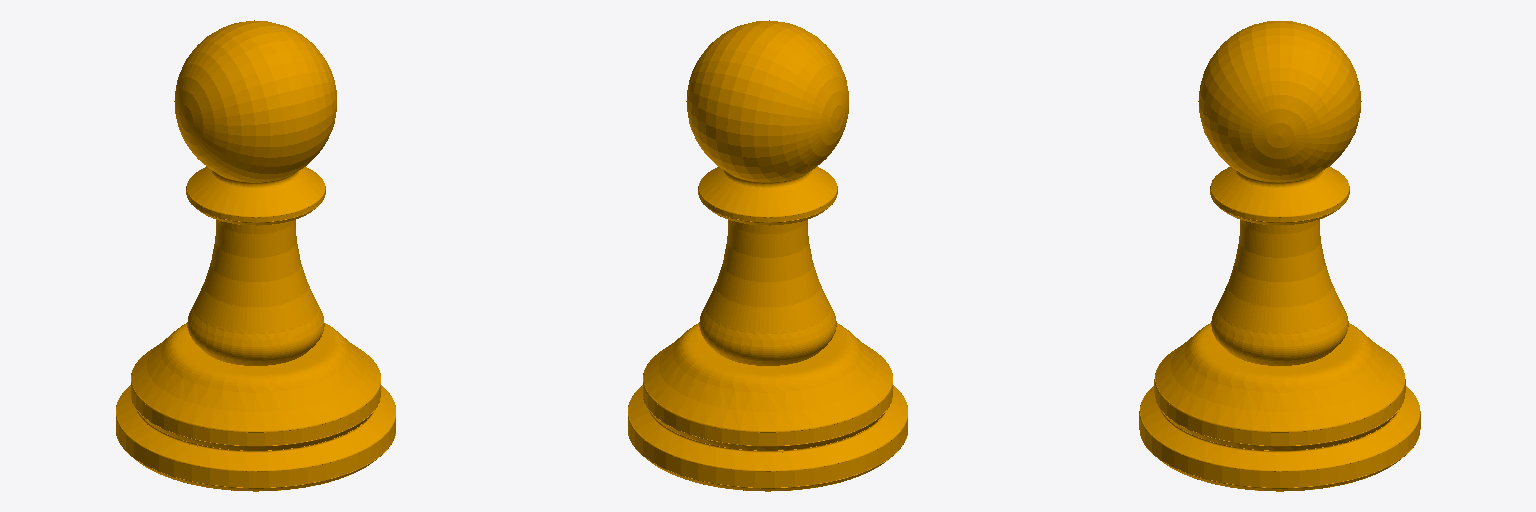
robot.urdf — Pawn_W:
<?xml version="1.0" encoding="utf-8"?>
<robot name="Pawn_W">
  <link name="piece_body">
    <inertial>
      <mass value="0.032"/>
      <origin xyz="-3.677E-07 1.233E-07 0.021" rpy="0 0 0"/>
      <inertia ixx="1.393E-05" ixy="0.00" ixz="3.527E-10" iyy="1.392E-05" iyz="-1.150E-10" izz="3.265E-06"/>
    </inertial>
    <collision>
      <origin rpy="0 0 0" xyz="0 0 0.031"/>
      <geometry>
        <cylinder radius="0.0195" length="0.062"/>
      </geometry>
    </collision>
    <collision>
      <origin rpy="0 0 0" xyz="0.016 0.0 0"/>
      <geometry>
        <sphere radius="0.001"/>
      </geometry>
    </collision>
    <collision>
      <origin rpy="0 0 0" xyz="-0.008 0.014 0"/>
      <geometry>
        <sphere radius="0.001"/>
      </geometry>
    </collision>
    <collision>
      <origin rpy="0 0 0" xyz="-0.008 -0.014 0"/>
      <geometry>
        <sphere radius="0.001"/>
      </geometry>
    </collision>
    <visual>
      <origin rpy="0 0 0"/>
      <geometry>
        <mesh filename="Pawn_W.obj"/>
      </geometry>
    </visual>
  </link>
</robot>

--- Render facts (derived) ---
Views: 3 orthographic renders of the robot side by side, from view 1: azimuth 30°, elevation 25°; view 2: azimuth 150°, elevation 25°; view 3: azimuth 270°, elevation 25°.
Robot: Pawn_W — 1 links, 0 joints (none); root link piece_body; default pose: every joint at zero.
Links seen in each view (by area): view 1: piece_body; view 2: piece_body; view 3: piece_body.
Link boxes in pixels (left/top/right/bottom): piece_body: left=116, top=20, right=395, bottom=491; piece_body: left=628, top=20, right=907, bottom=491; piece_body: left=1139, top=21, right=1420, bottom=491.
Bounding box of the posed robot: 0.0386 × 0.0386 × 0.0617 m (x, y, z).
1 mesh visuals loaded from 1 distinct referenced files (1 OBJ).